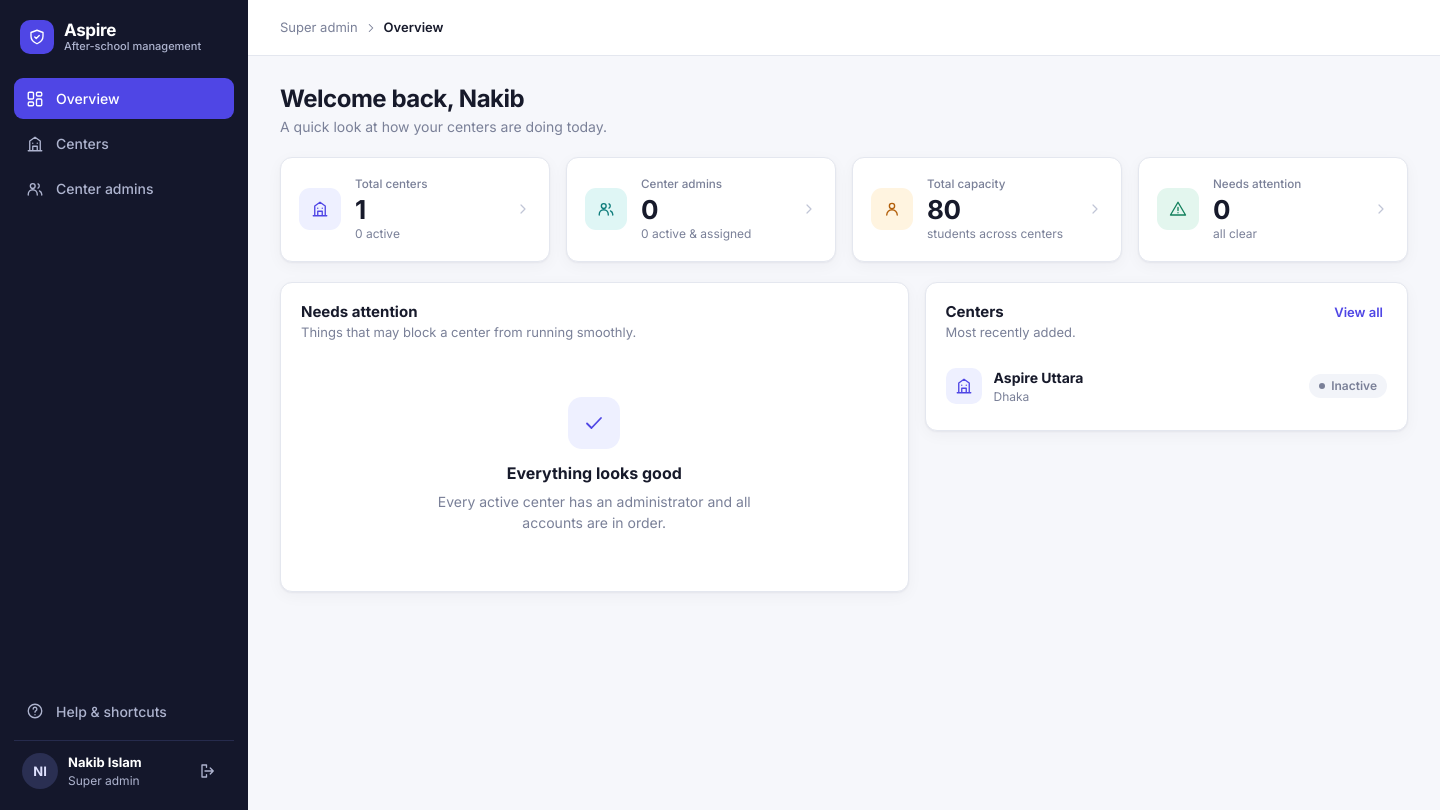
Test: Super Admin workspace › prevents creating an administrator when no active center exists
Check: the text "Aspire Uttara" is shown, box [994,369,1084,386]
What coordinates should you click on to do the following:
click the button "Center admins"
I would click on:
 (124, 188)
Its box is [14,168,234,209].
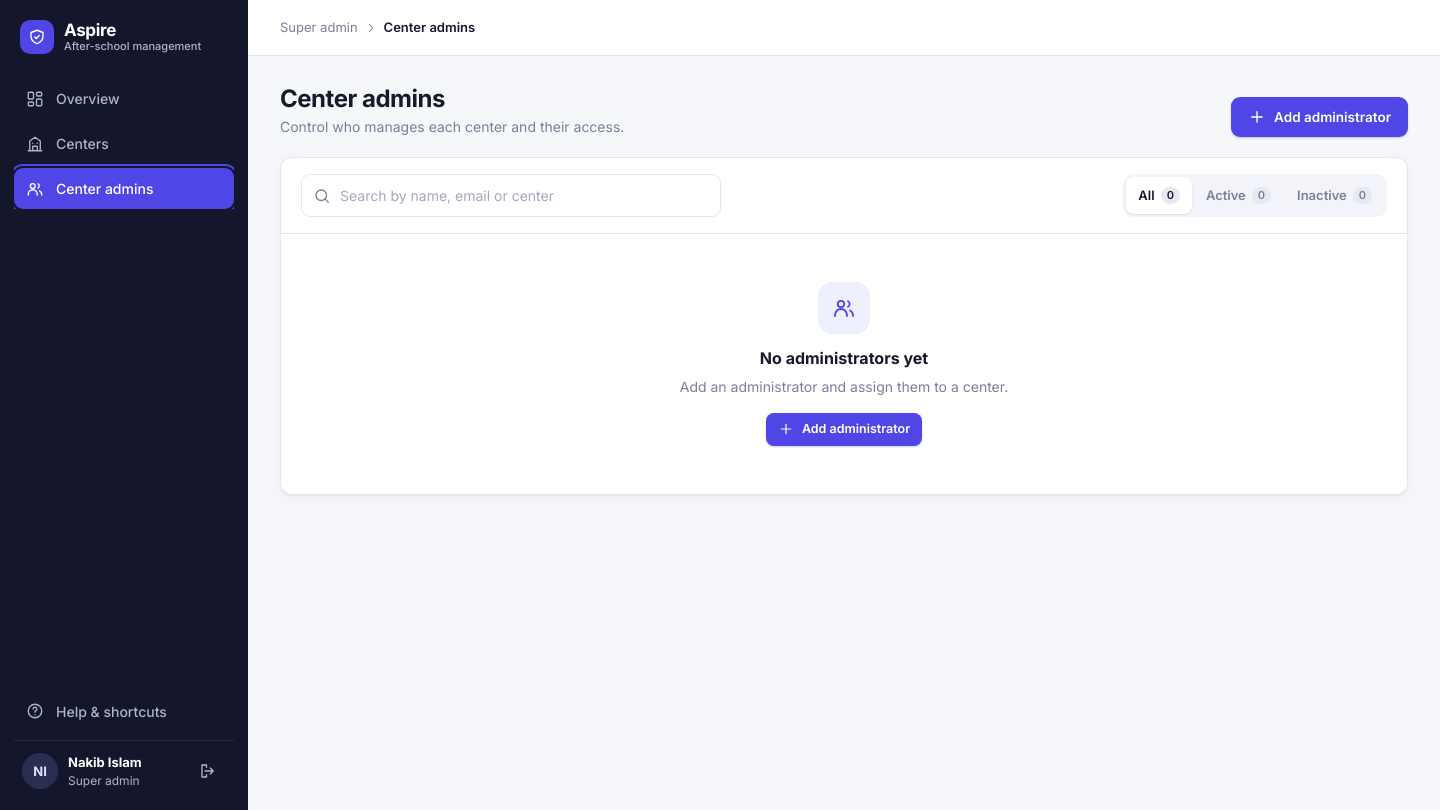
What coordinates should you click on to do the following:
click the 1st button "Add administrator"
I would click on:
 (1320, 117)
Its box is [1231,97,1408,137].
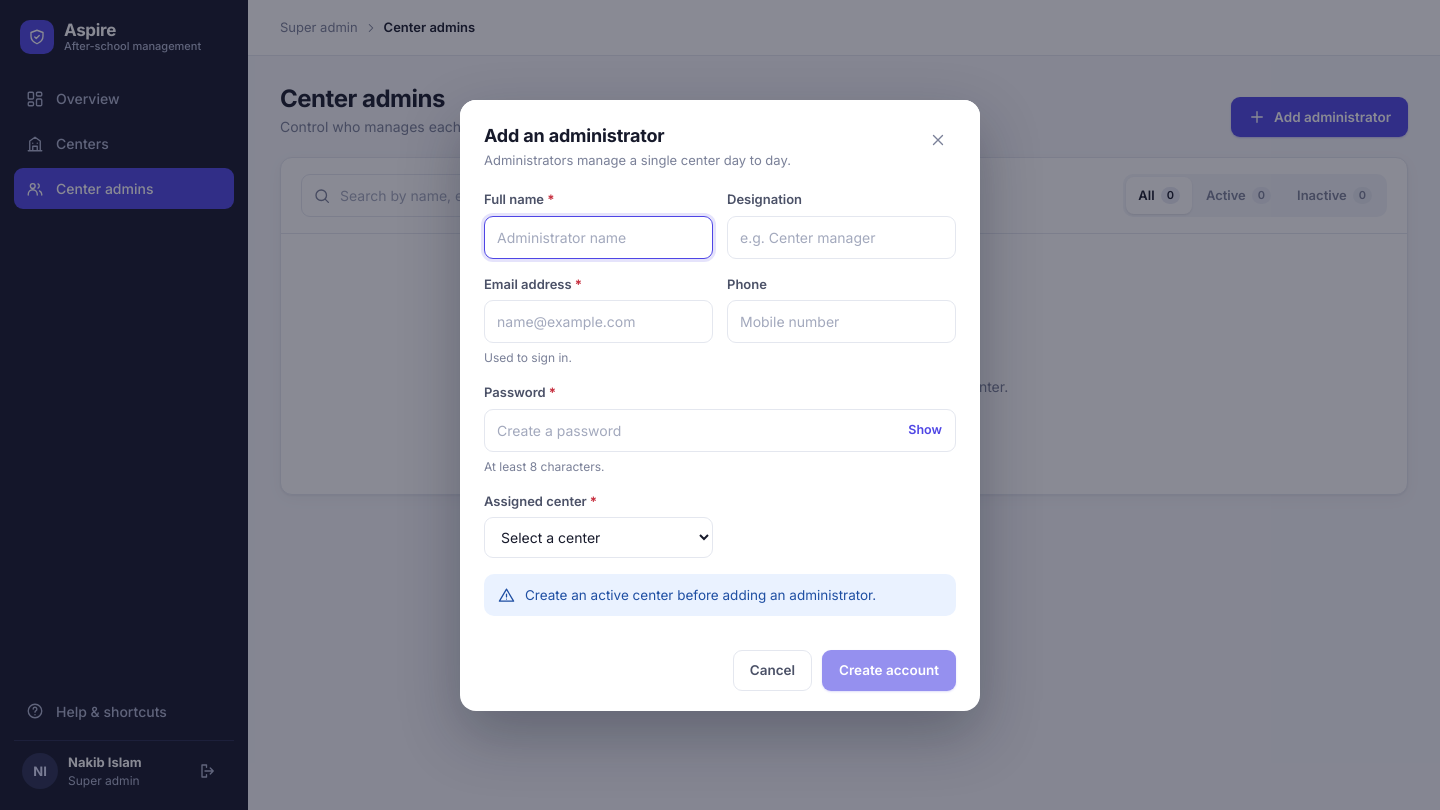
Check: the dialog "Add an administrator" is shown, box [460,100,980,710]
Check: the text "Create an active center before adding an administrator." is shown, box [484,574,956,616]
Check: the button "Create account" is disabled, box [822,650,956,691]
